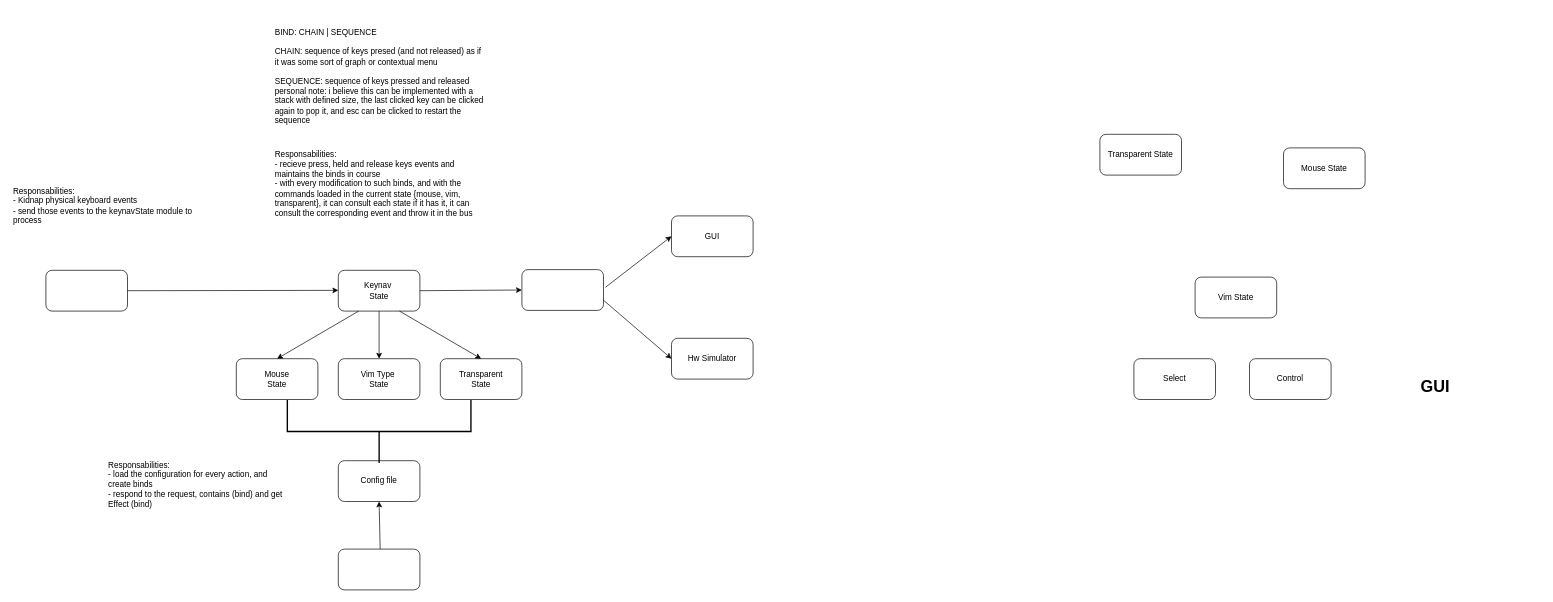
This 1553x602 diagram has some shape labels left out. Each missing label, with the centre of its shape:
Config Interface: the point at 379,569
InputListener: the point at 86,290
Keynav Events Bus: the point at 562,289
